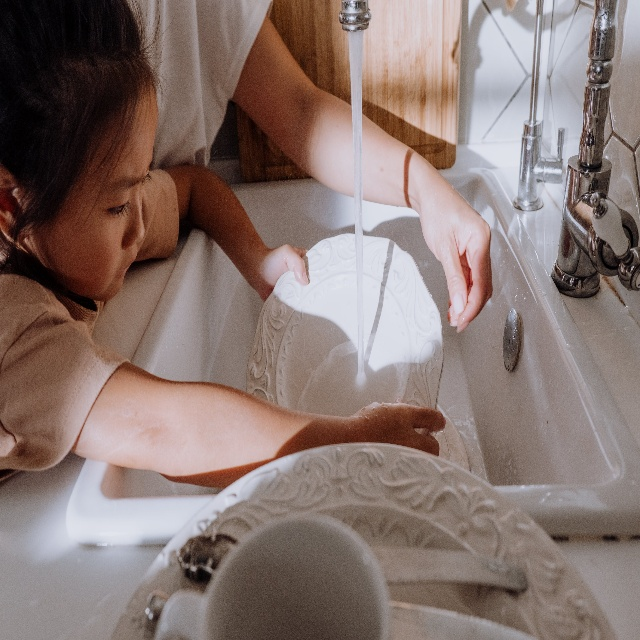Sin_guantes: (418, 172, 493, 333), (354, 400, 446, 457), (257, 241, 309, 302)
